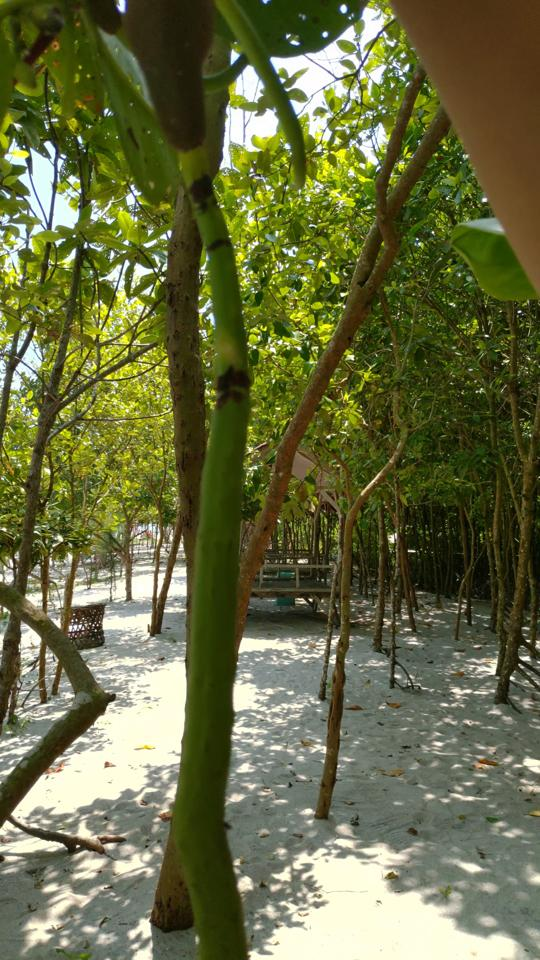setengah matang: (111, 1, 264, 956)
